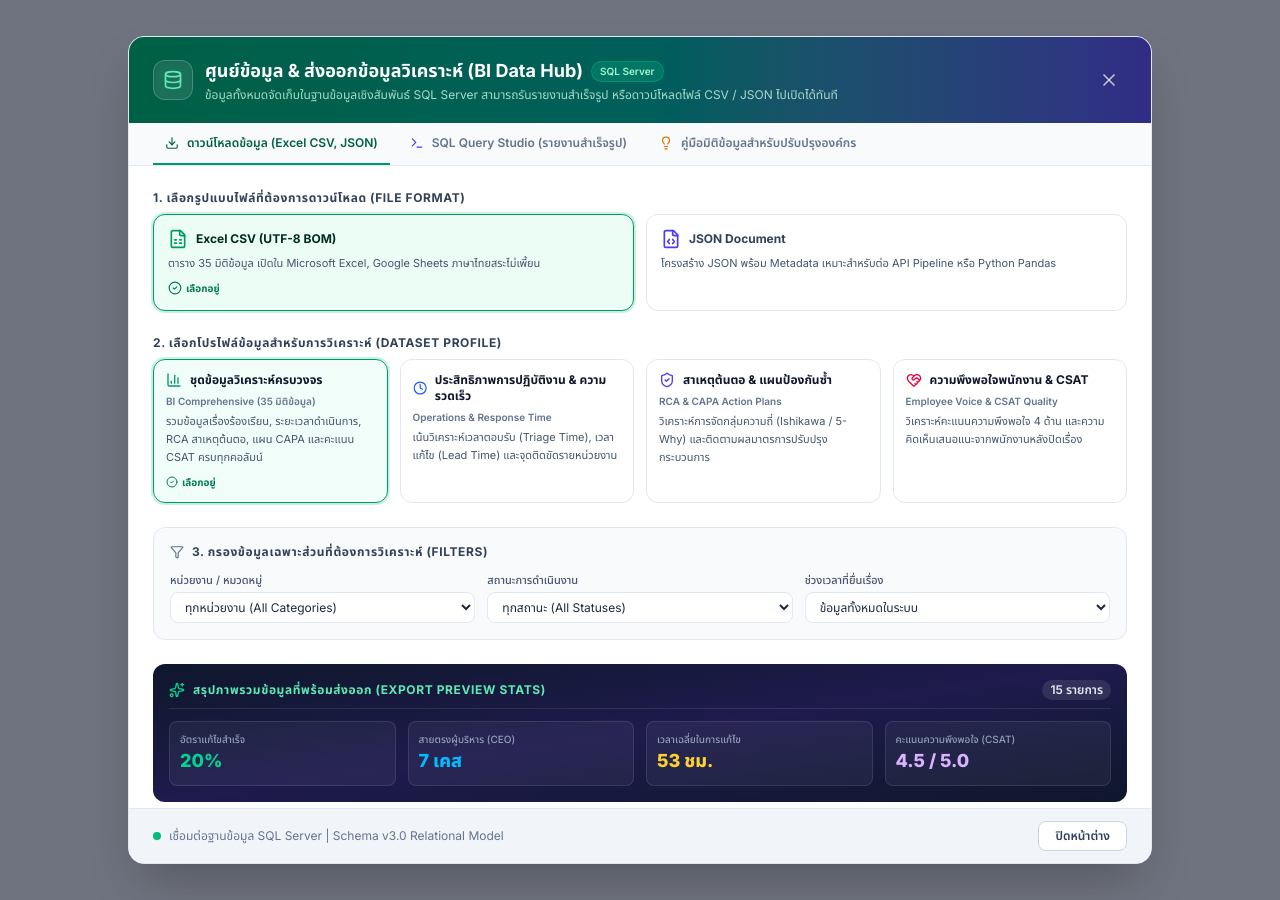
Scenario: tabs › switches export -> SQL studio -> guide -> export, hiding the previous tab each time
Check: the text "1. เลือกรูปแบบไฟล์ที่ต้องการดาวน์โหลด (File Format)" is shown, box [153,190,466,206]
Check: the text "คำแนะนำ: โครงสร้างข้อมูลที่ระบบจัดเตรียมไว้" is not shown
Click the button "SQL Query Studio (รายงานสำเร็จรูป)" at (518, 150), box [398,135,639,165]
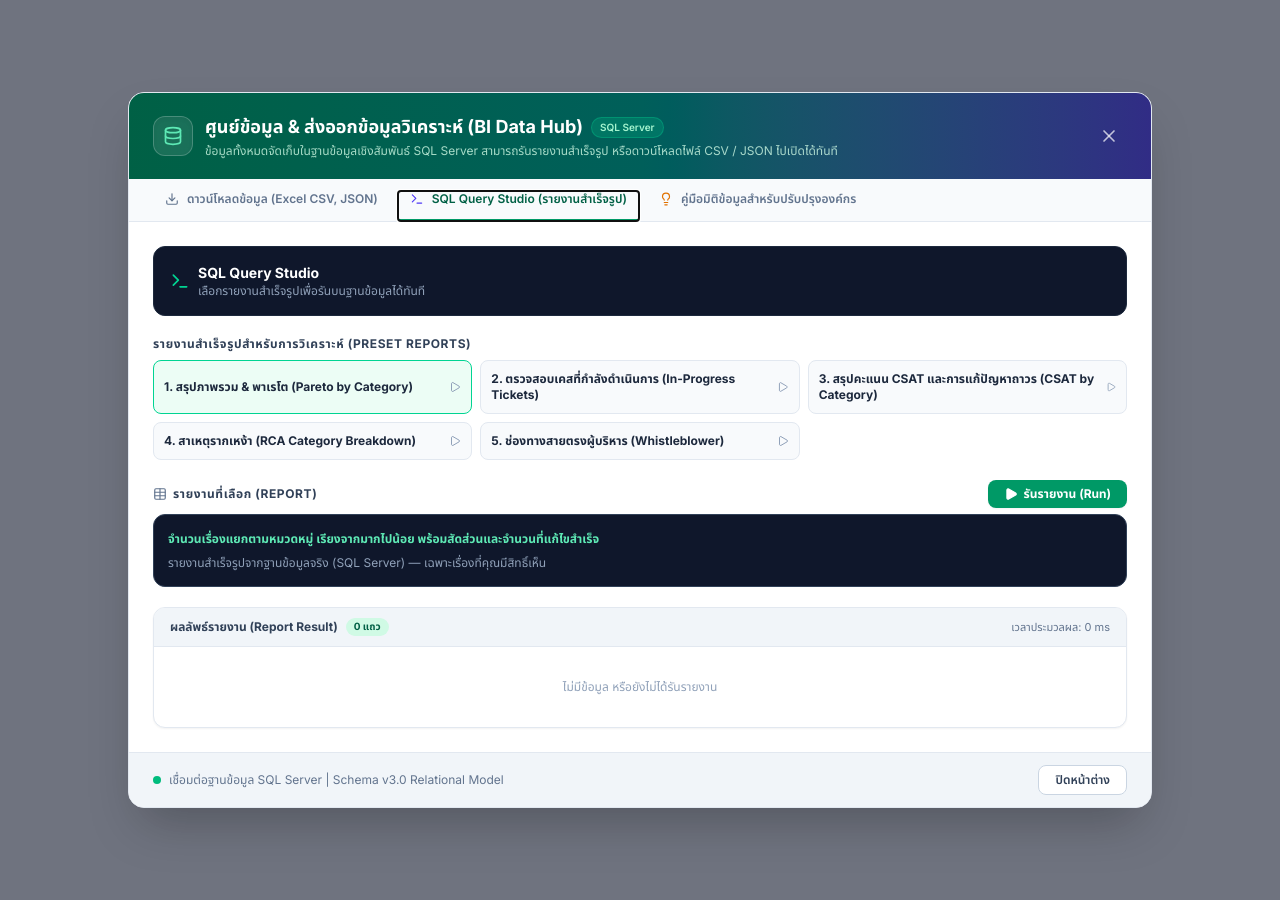
Check: the text "คำแนะนำ: โครงสร้างข้อมูลที่ระบบจัดเตรียมไว้" is not shown
Check: the heading "SQL Query Studio" is shown, box [198,264,319,281]
Check: the text "เลือกรูปแบบไฟล์ที่ต้องการดาวน์โหลด" is gone
Click the button "คู่มือมิติข้อมูลสำหรับปรับปรุงองค์กร" at (758, 206), box [647,191,868,221]
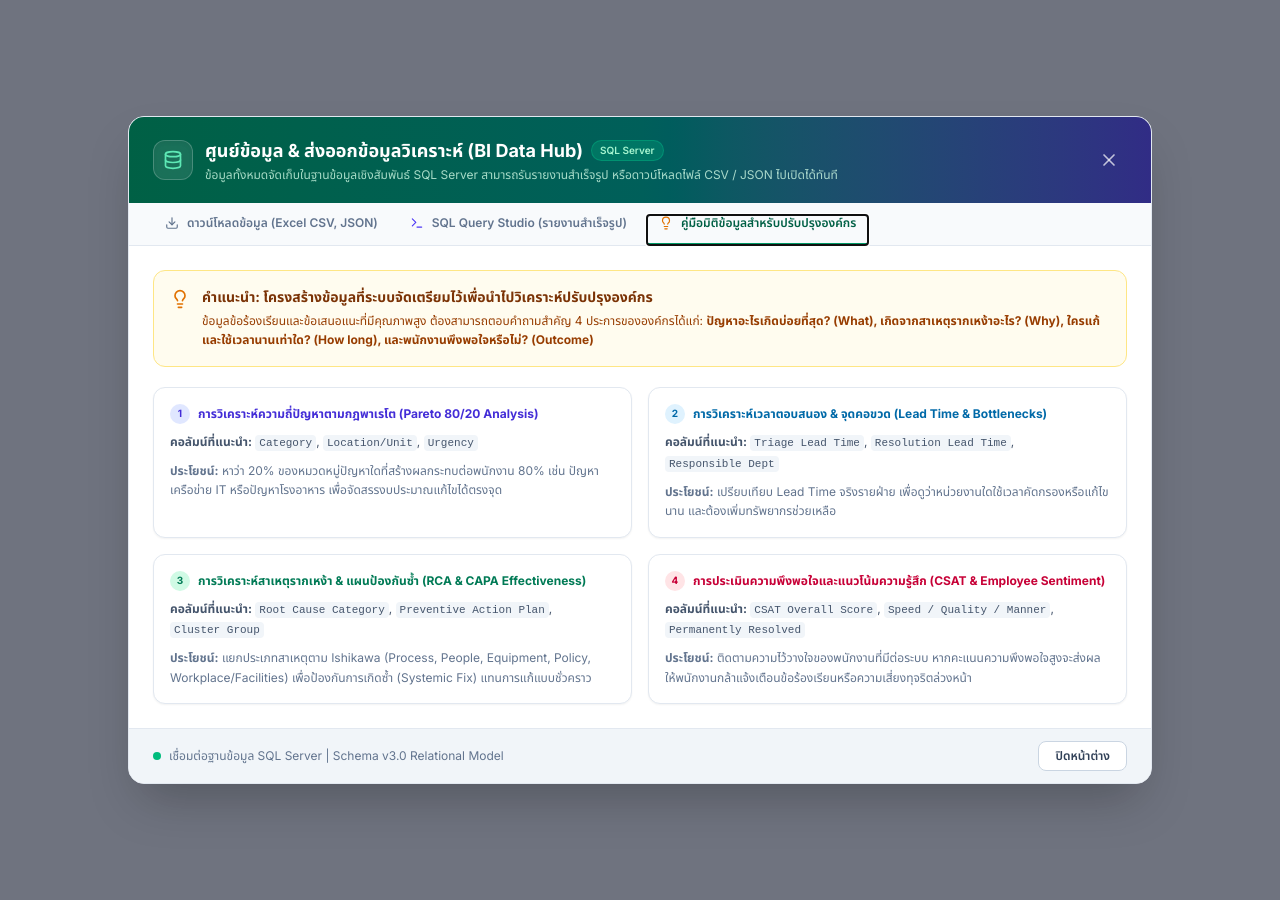
Check: the text "เลือกรูปแบบไฟล์ที่ต้องการดาวน์โหลด" is not shown
Check: the heading "คำแนะนำ: โครงสร้างข้อมูลที่ระบบจัดเตรียมไว้" is shown, box [202,288,653,305]
Click the button "ดาวน์โหลดข้อมูล (Excel CSV, JSON)" at (271, 230), box [153,215,390,245]
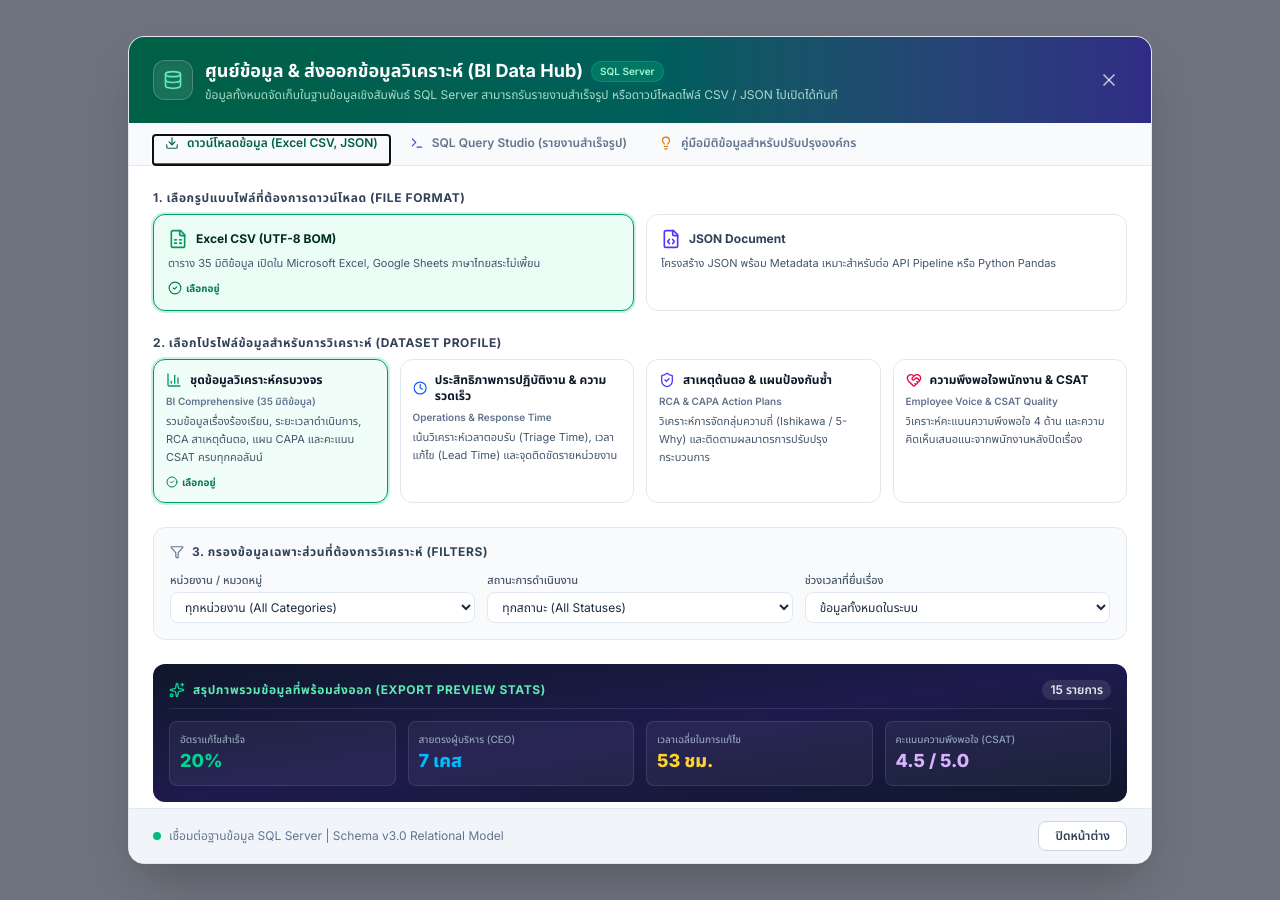
Check: the text "1. เลือกรูปแบบไฟล์ที่ต้องการดาวน์โหลด (File Format)" is shown, box [153,190,466,206]
Check: the heading "คำแนะนำ: โครงสร้างข้อมูลที่ระบบจัดเตรียมไว้" is gone
